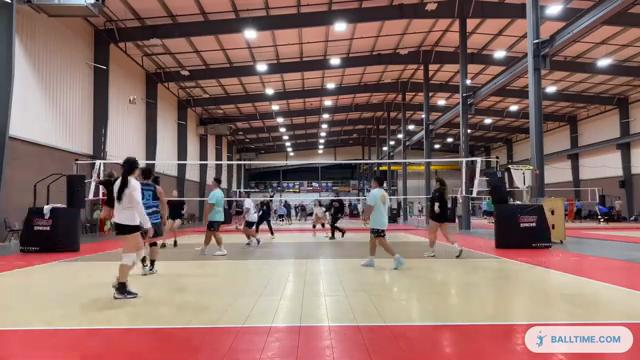attacco: (88, 160, 119, 234)
